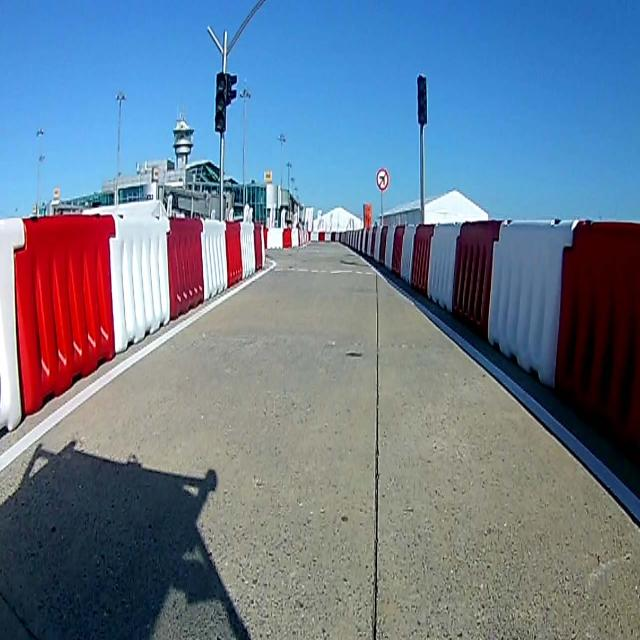soladonulmez: (376, 168, 388, 190)
